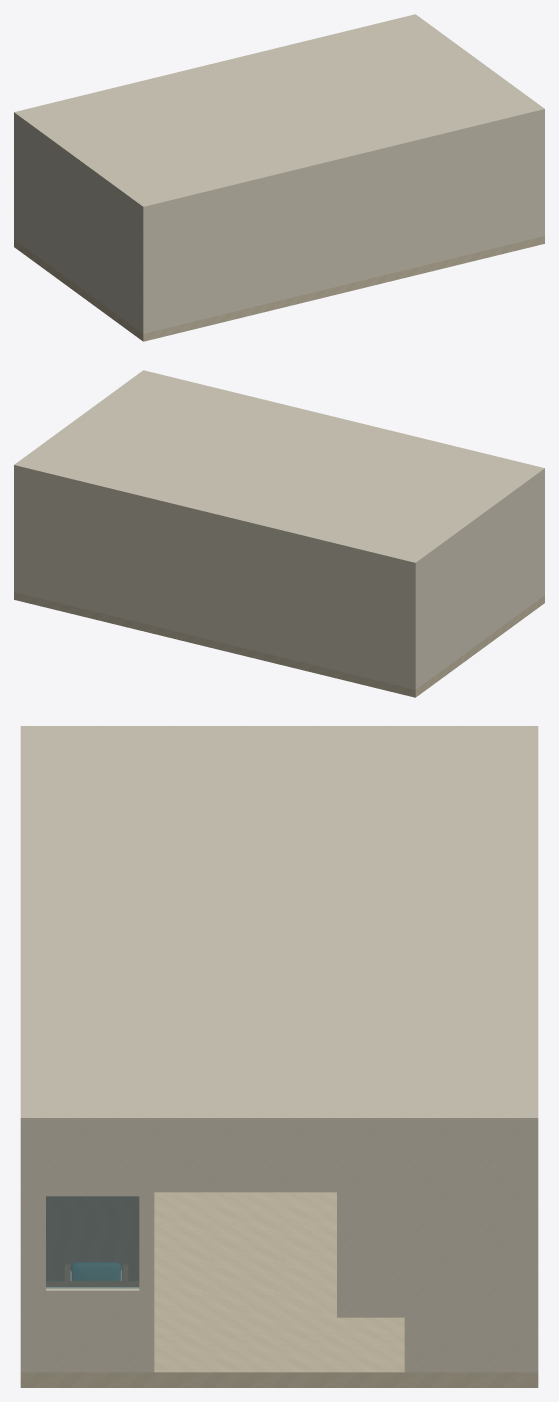
File: StarAtlasSpecialty_151.glb
3 views of the same model, one above another, from view 1: azimuth 30°, elevation 25°; view 2: azimuth 150°, elevation 25°; view 3: azimuth 270°, elevation 25° (orthographic). The views are drawn at different scales.
Visible parts, largest first — view 1: SA151_Ceiling, SA151_NorthSide, SA151_OpaqueRearBoundary, SA151_RoomFloor; view 2: SA151_Ceiling, SA151_SouthSide, SA151_OpaqueRearBoundary, SA151_RoomFloor; view 3: SA151_Ceiling, SA151_RoomFloor, SA151_EntryShoulderSouth, SA151_EntryHeader, SA151_StreetWindowLower, SA151_ScreenedStreetGlass, SA151_WashEntrySide, SA151_StreetWindowUpper, SA151_EntryPrivacyDogleg, SA151_NorthSide, SA151_SouthSide, SA151_StreetWindowOuterPier (+2 smaller).
Part boxes in pixels (<box>): SA151_Ceiling: <box>14,14,544,211</box>; SA151_NorthSide: <box>141,114,544,333</box>; SA151_OpaqueRearBoundary: <box>16,119,141,331</box>; SA151_RoomFloor: <box>14,236,544,341</box>; SA151_Ceiling: <box>14,370,544,567</box>; SA151_SouthSide: <box>14,470,417,689</box>; SA151_OpaqueRearBoundary: <box>417,475,542,687</box>; SA151_RoomFloor: <box>14,592,544,697</box>; SA151_Ceiling: <box>20,726,538,1128</box>; SA151_RoomFloor: <box>20,1192,538,1387</box>; SA151_EntryShoulderSouth: <box>404,1128,529,1372</box>; SA151_EntryHeader: <box>150,1128,408,1192</box>; SA151_StreetWindowLower: <box>29,1287,154,1372</box>; SA151_ScreenedStreetGlass: <box>46,1196,139,1288</box>; SA151_WashEntrySide: <box>337,1192,404,1317</box>; SA151_StreetWindowUpper: <box>29,1128,154,1196</box>; SA151_EntryPrivacyDogleg: <box>46,1196,138,1280</box>; SA151_NorthSide: <box>20,1128,29,1372</box>; SA151_SouthSide: <box>529,1128,538,1372</box>; SA151_StreetWindowOuterPier: <box>29,1196,45,1290</box>.
Size of the model in its own units: 12.9 by 4.14 by 7.2.
64 materials, 49 textured.
